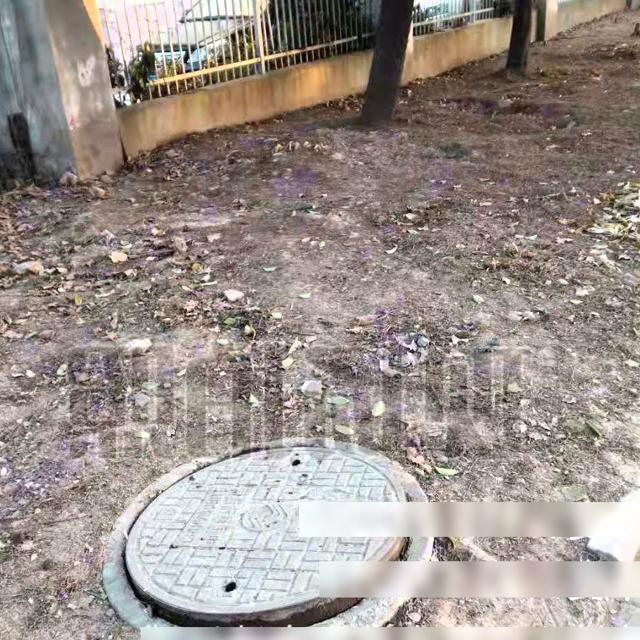uncovered: (103, 436, 432, 640)
